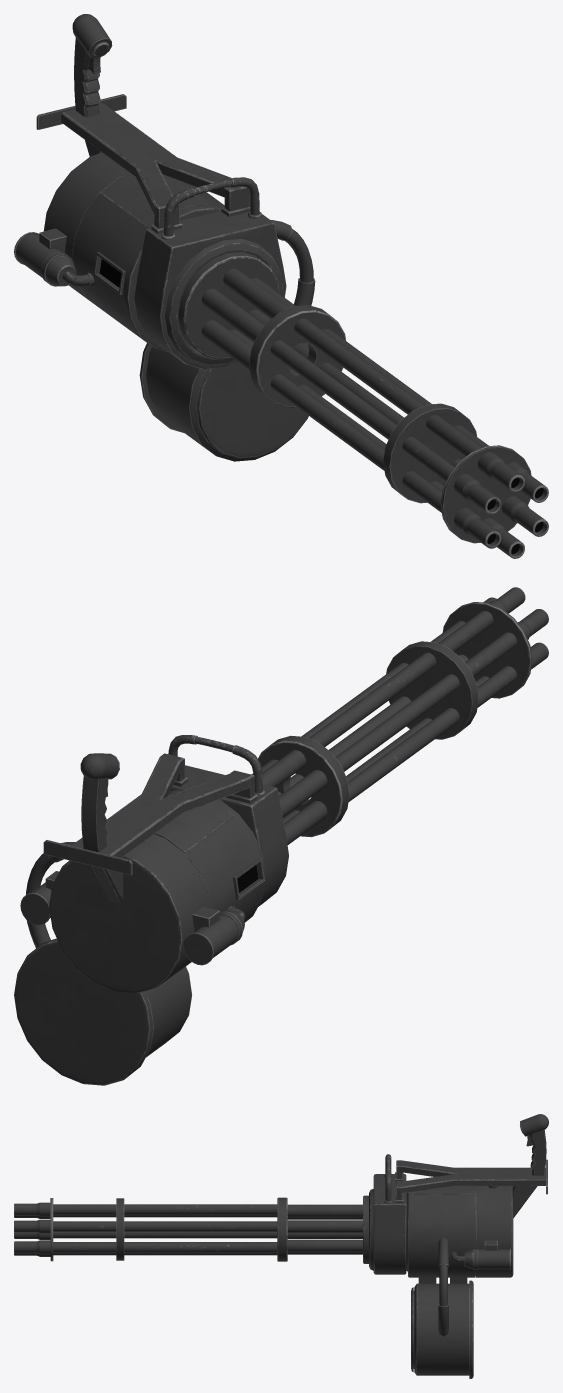
Rendered from fee-spike.glb.
3 renders of one model, top to bottom at view 1: azimuth 30°, elevation 25°; view 2: azimuth 150°, elevation 25°; view 3: azimuth 270°, elevation 25°, orthographic. The views are drawn at different scales.
Parts seen in each view (by area): view 1: polySurface4_lambert1_0; view 2: polySurface4_lambert1_0; view 3: polySurface4_lambert1_0.
Boxes of the visible parts, left/top/right/bottom form: polySurface4_lambert1_0: left=14, top=14, right=548, bottom=558; polySurface4_lambert1_0: left=14, top=587, right=548, bottom=1085; polySurface4_lambert1_0: left=14, top=1114, right=548, bottom=1378.
Size of the model in its own units: 0.5904 by 0.9005 by 1.82.
Materials: 1 (1 with a texture image).
